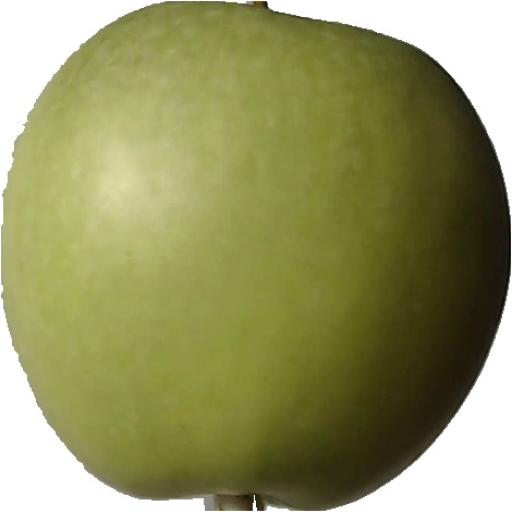apple-unripe: (0, 0, 507, 478)
